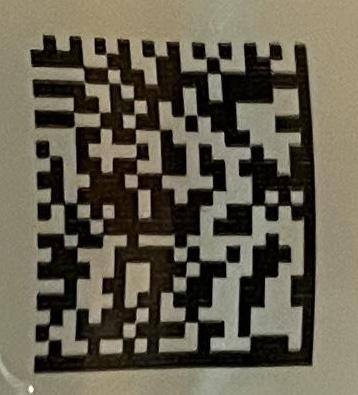datamatrix: (30, 35, 318, 375)
